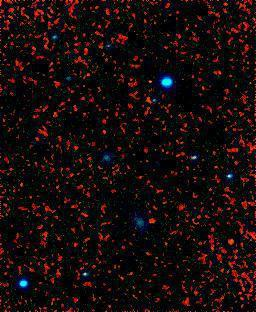star: (215, 228, 245, 258)
